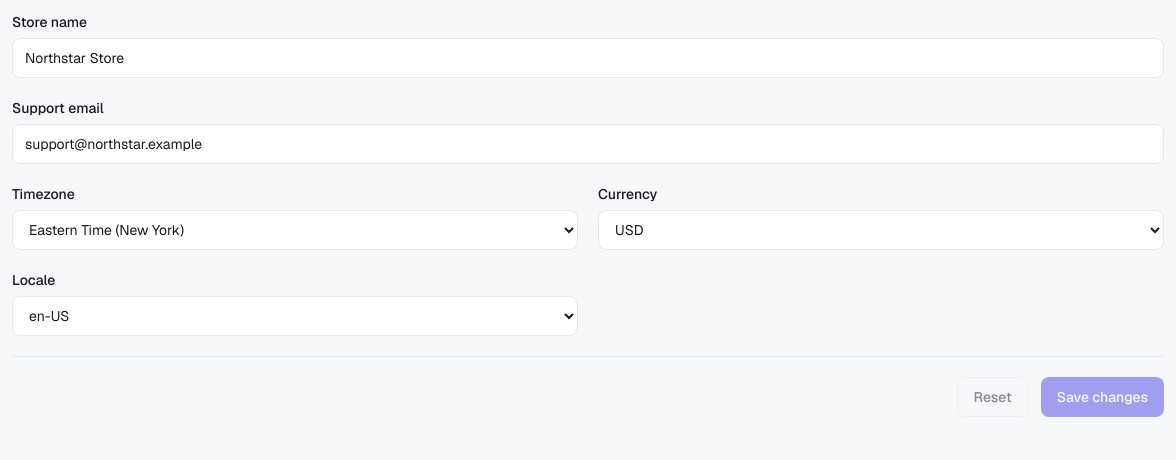
settings forms › renders General defaults, validates, saves, and resets dirty state
Expected: the field labelled "Store name" holds "Northstar Store", [12,38,1164,78]
Expected: the button "Save changes" is disabled, [1041,377,1164,417]
Replace the text in the field labelled "Support email" with "invalid" at (588, 144), box [12,124,1164,164]
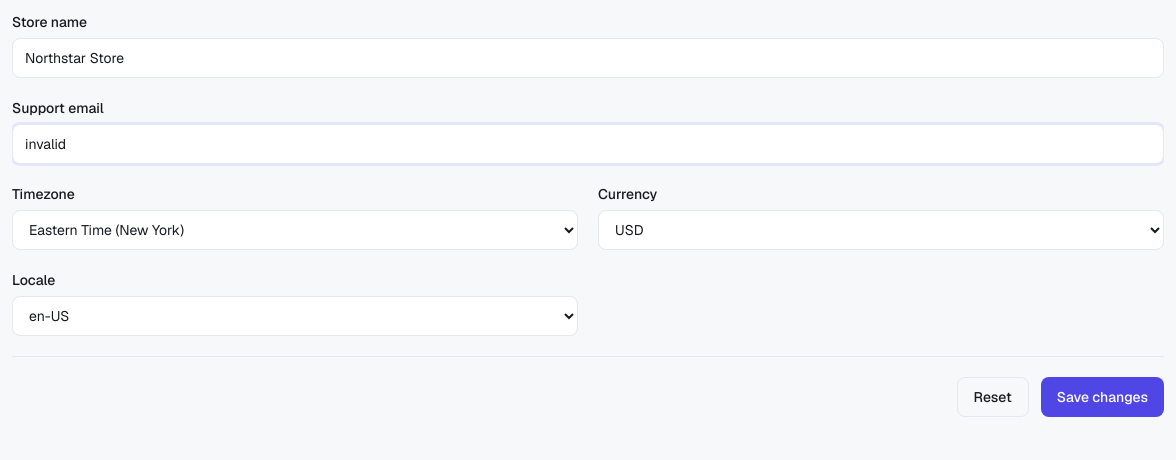
Press Tab
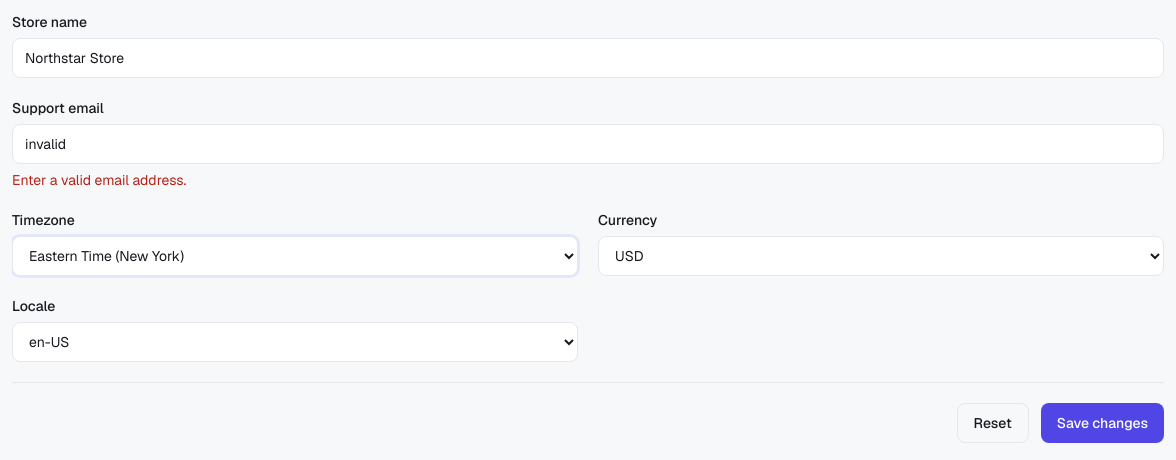
Result: the text "Enter a valid email address." is shown at [12,171,186,189]
Replace the text in the field labelled "Support email" with "hello@northstar.example" at (588, 144), box [12,124,1164,164]
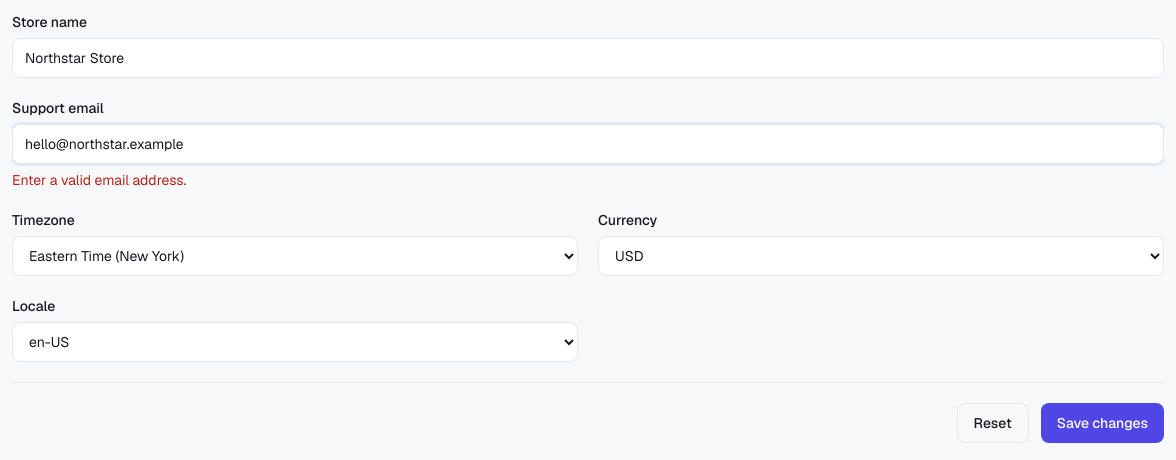
Click the button "Save changes" at (1102, 423), box [1041,403,1164,443]
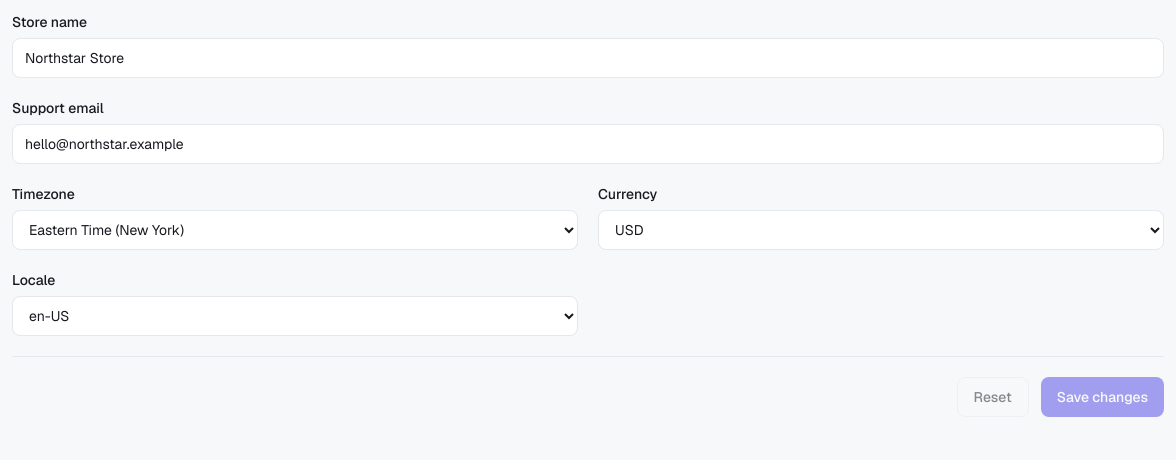
Result: the button "Save changes" is disabled at [1041,377,1164,417]
Replace the text in the field labelled "Store name" with "Changed store" at (588, 58), box [12,38,1164,78]
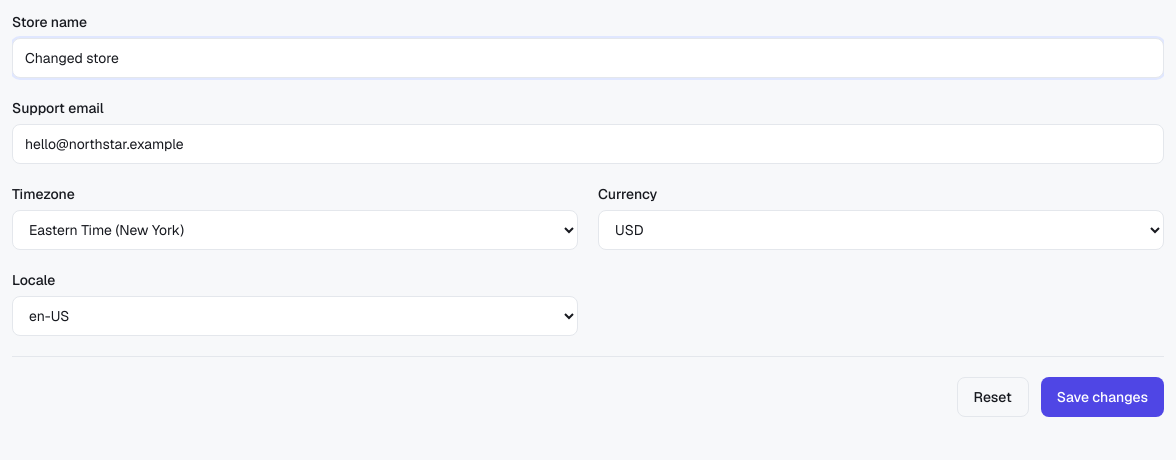
Click the button "Reset" at (993, 397), box [957,377,1029,417]
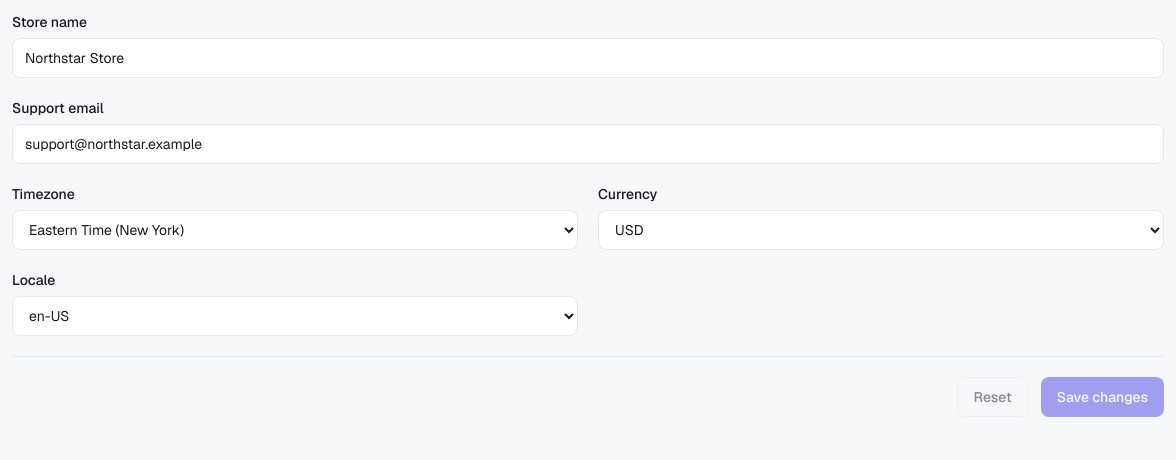
Result: the field labelled "Store name" holds "Northstar Store" at [12,38,1164,78]
